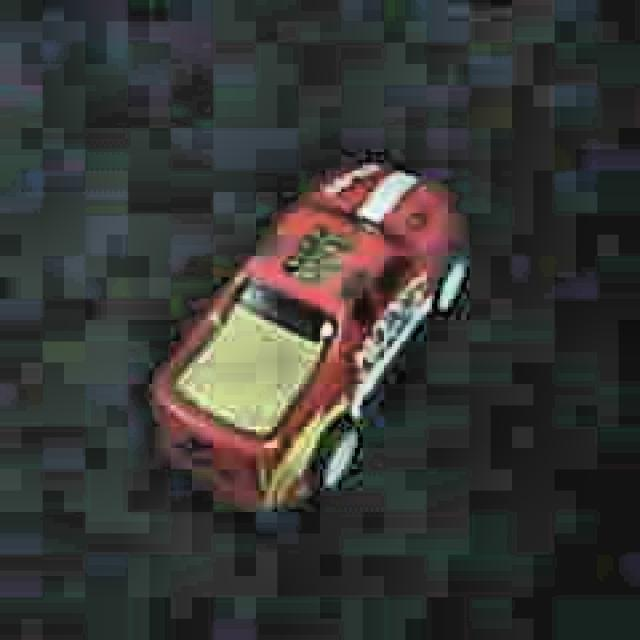car: (137, 152, 479, 520)
